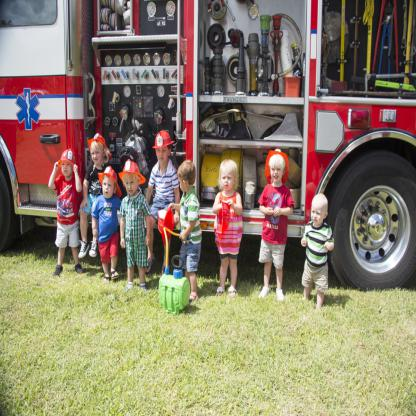Truck: (0, 0, 416, 296)
